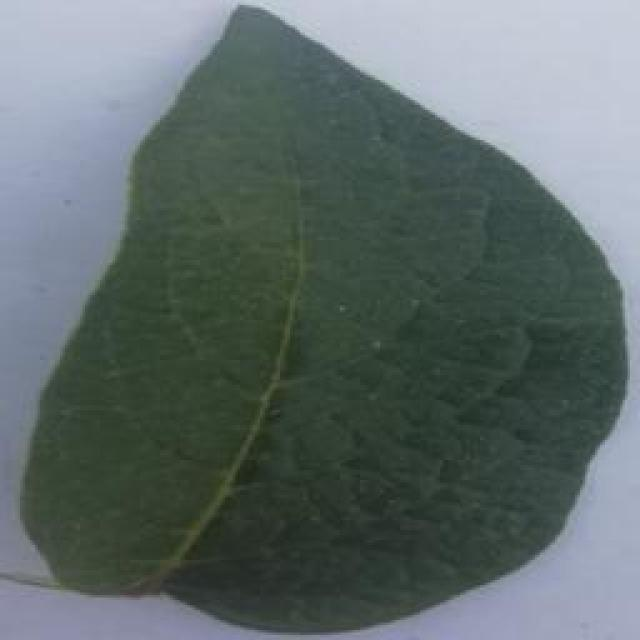Potato_Healthy: (18, 5, 620, 629)
